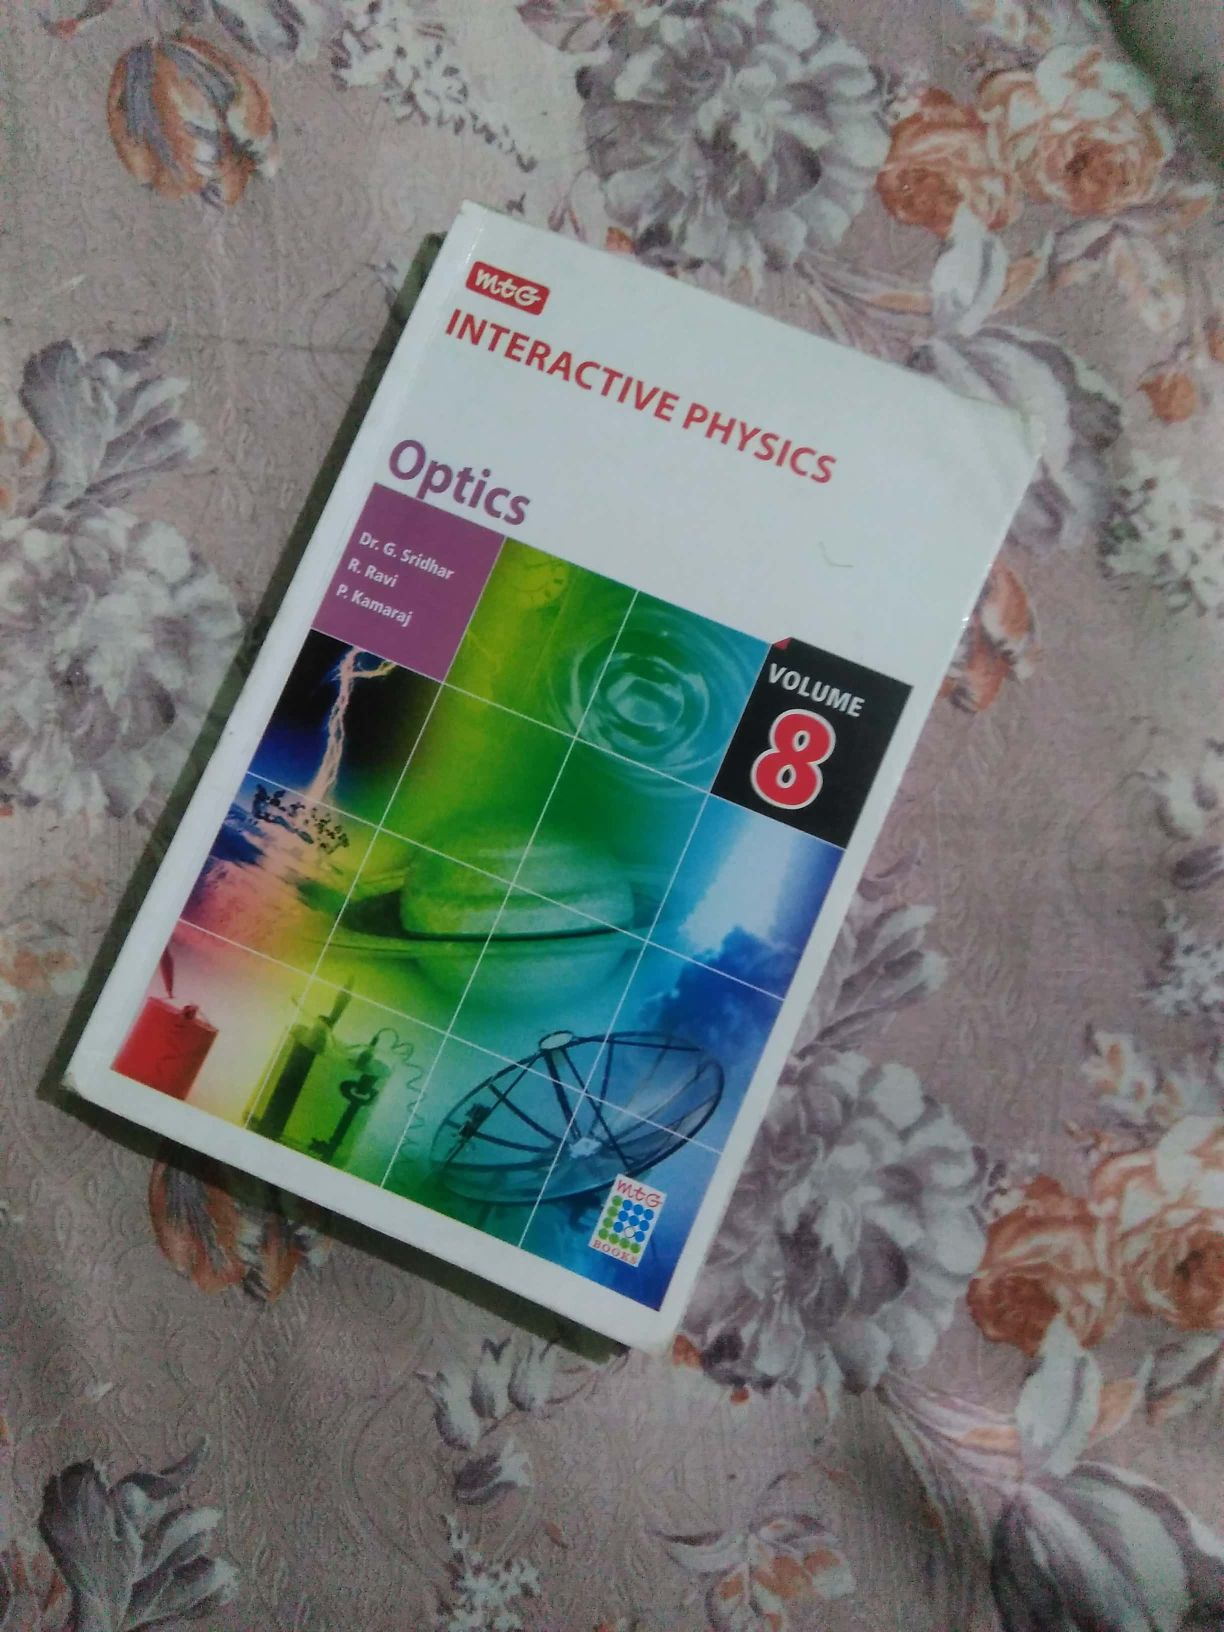optics: (71, 195, 1049, 1326)
